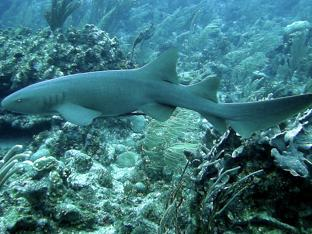Shark -Selachimorpha-: (0, 42, 312, 140)
